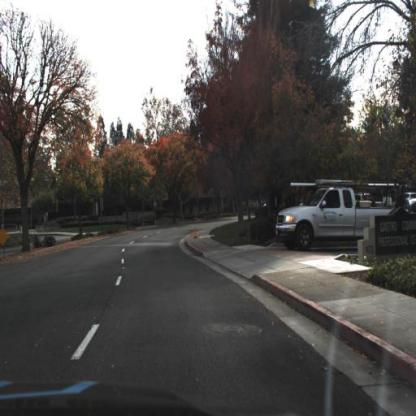car: (274, 187, 414, 253)
